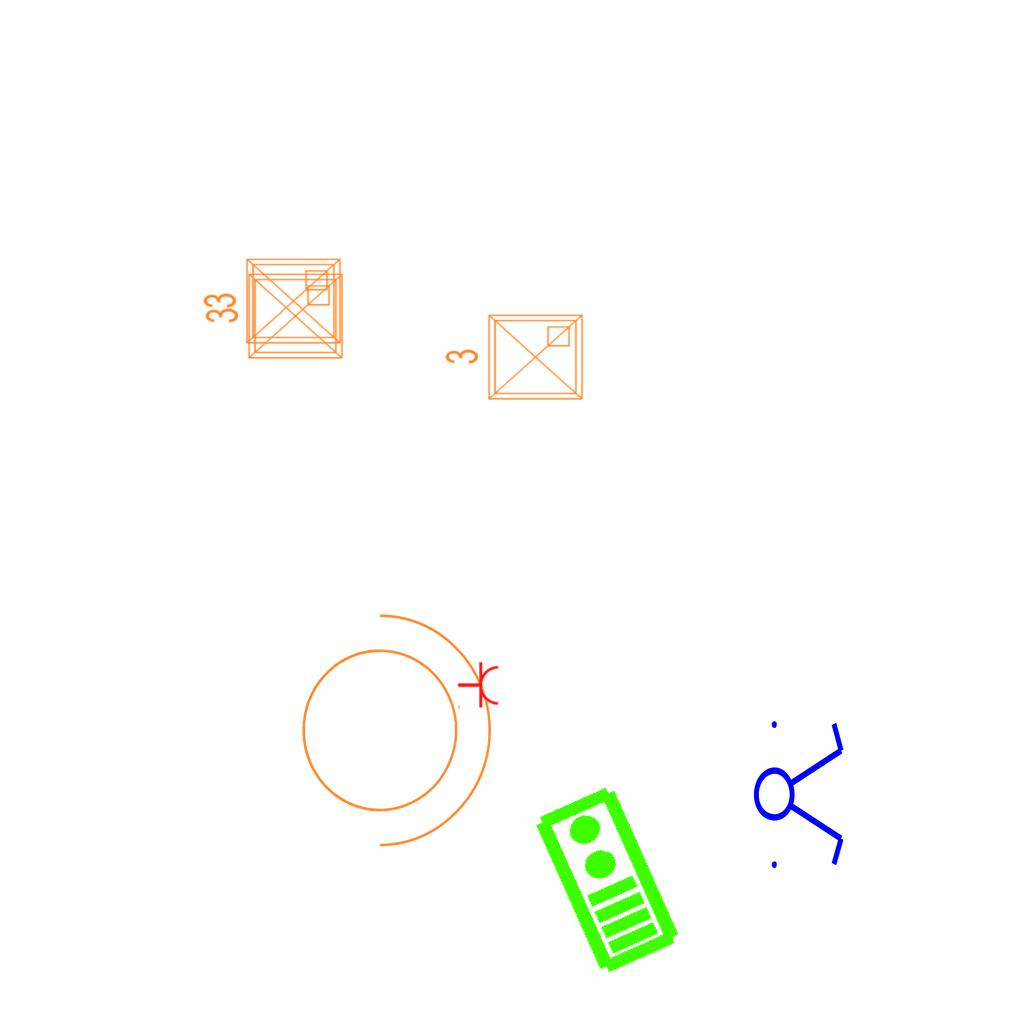Einbaudownlights_LED_Konferenzraeume: (440, 307, 590, 411), (198, 251, 348, 355), (200, 266, 350, 370)
Gegensprechanlage_mit_Video: (526, 780, 685, 980)
Scheinwerfer_fuer_Alarmbeleuchtung: (277, 592, 502, 856)
Schukosteckdose_einfach: (457, 661, 500, 711)
Serienschalter: (752, 709, 848, 877)
